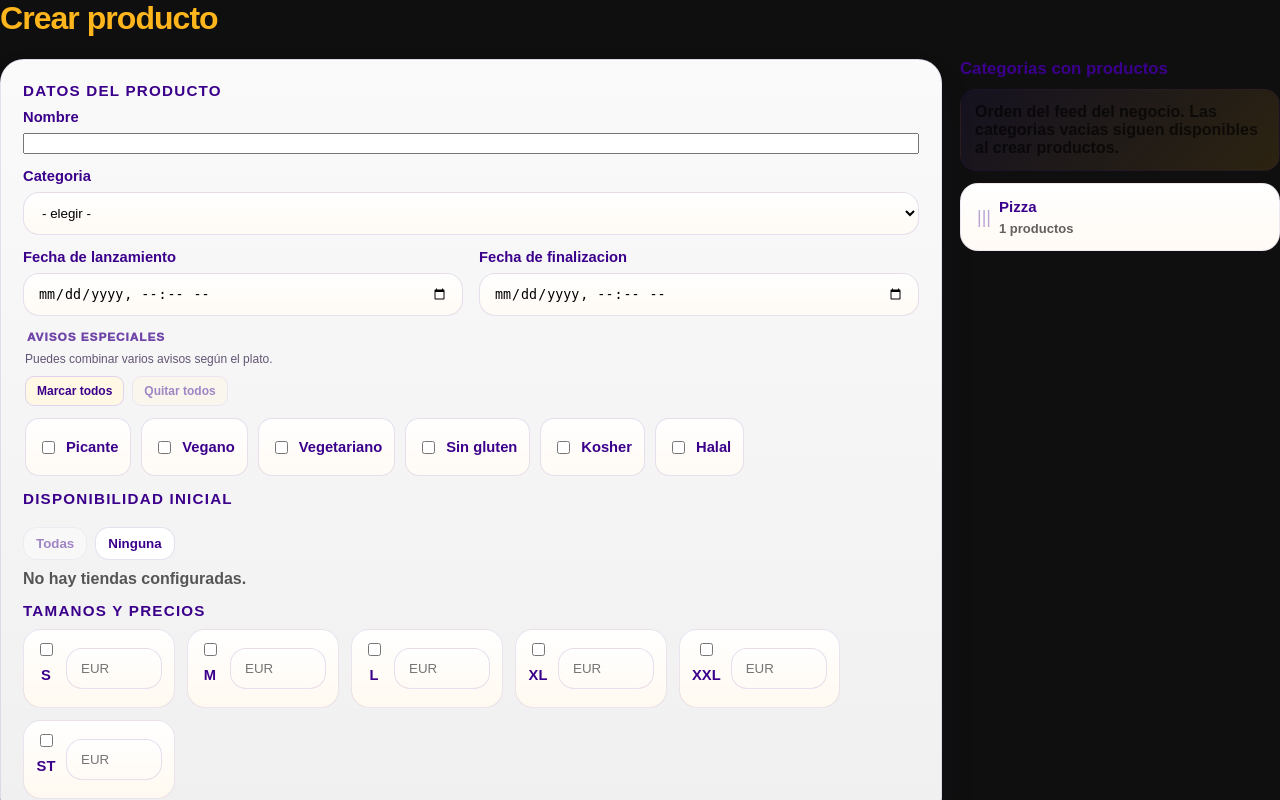
unlinked product can be deleted after confirmation
Click the button "Pizza 1 productos".
click(1127, 217)  # box 999,198 -> 1255,236
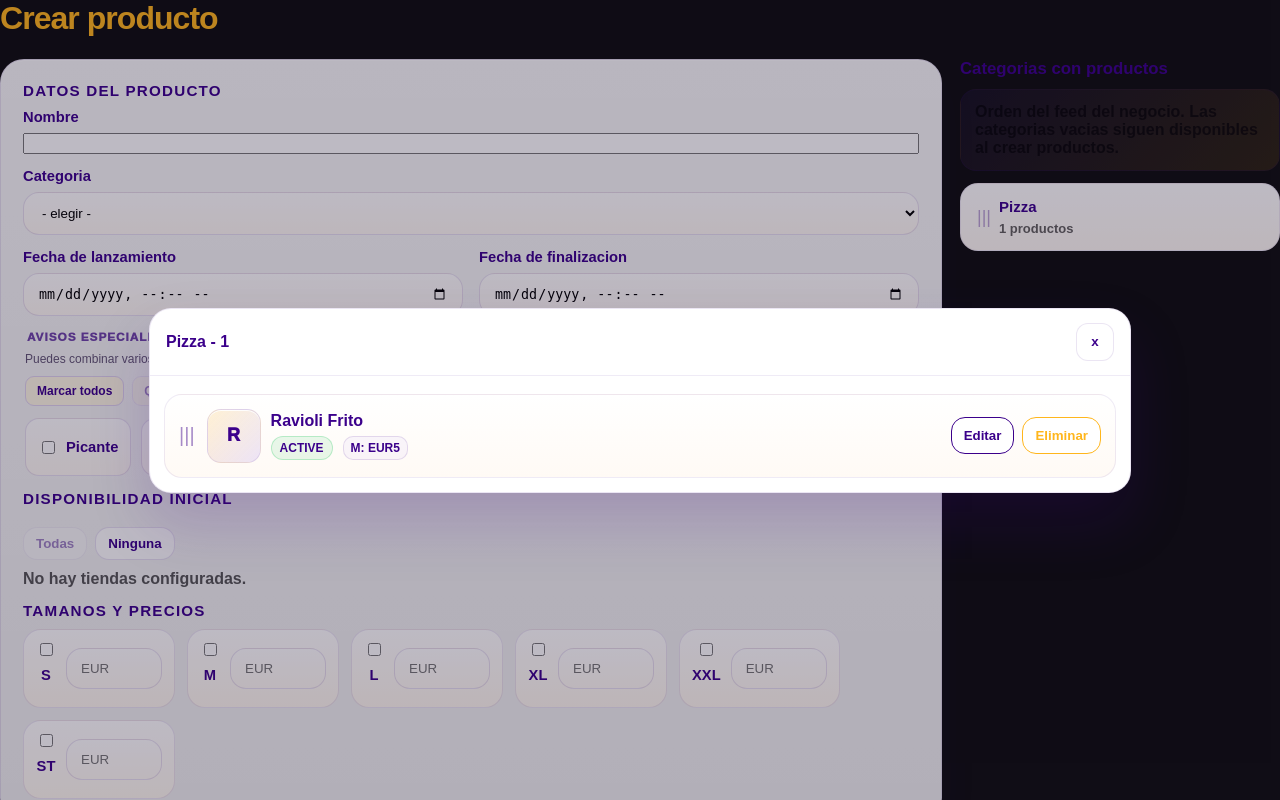
Click the button "Eliminar".
click(1062, 436)  # box 1022,417 -> 1101,454
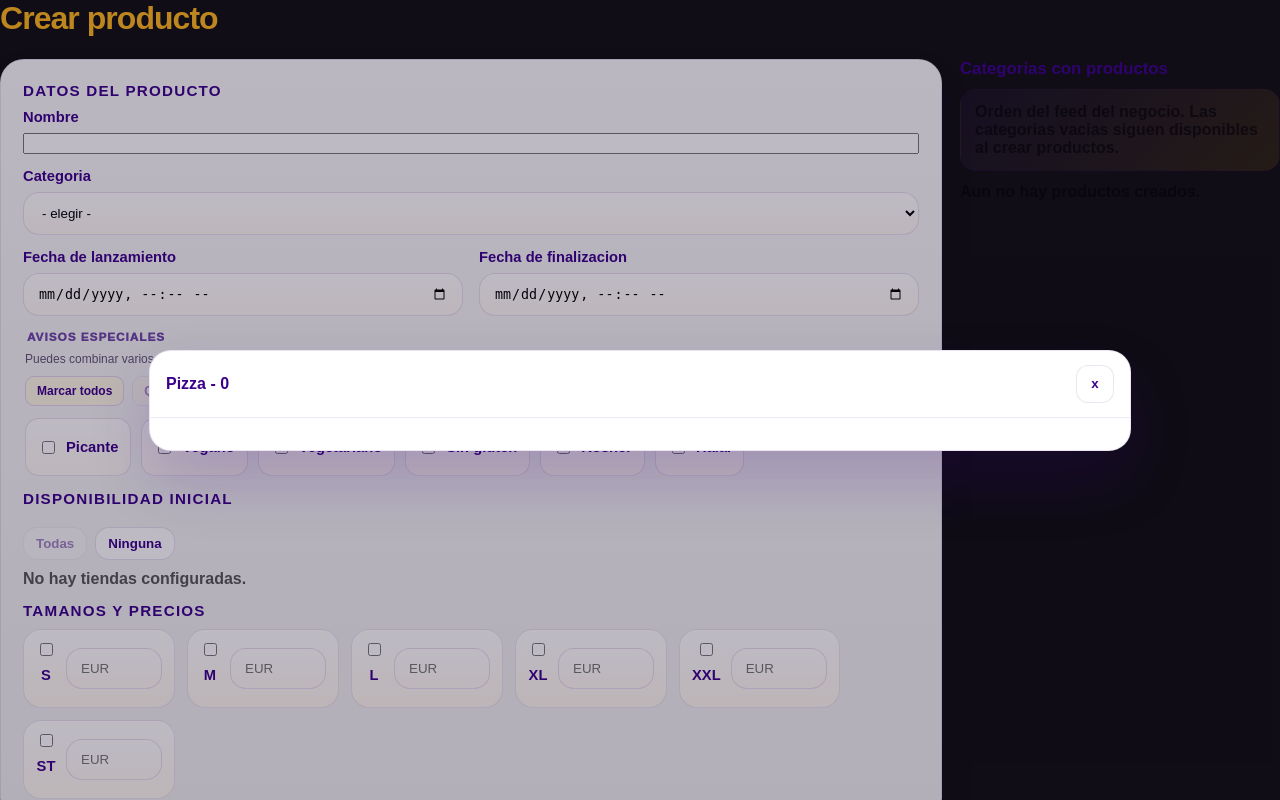
Expected: the button "Eliminar" is gone
